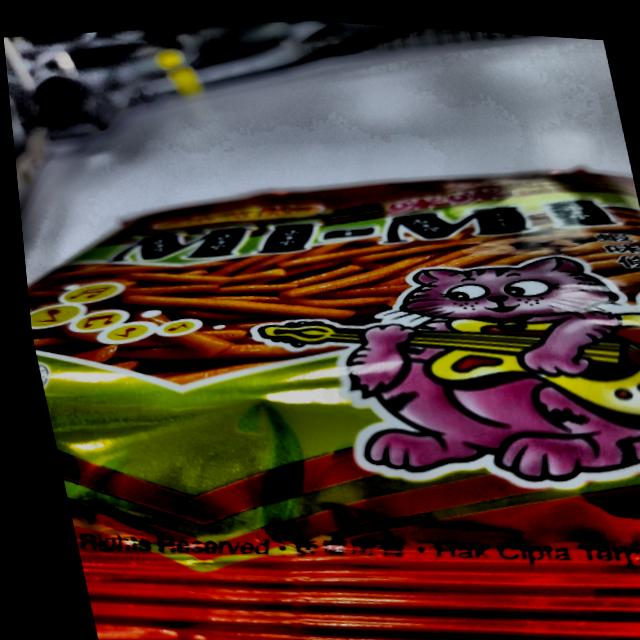Plastic: (10, 129, 640, 640)
